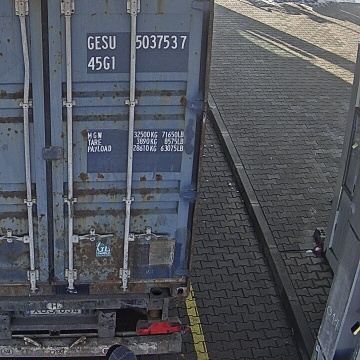serial_id: (87, 35, 187, 49)
